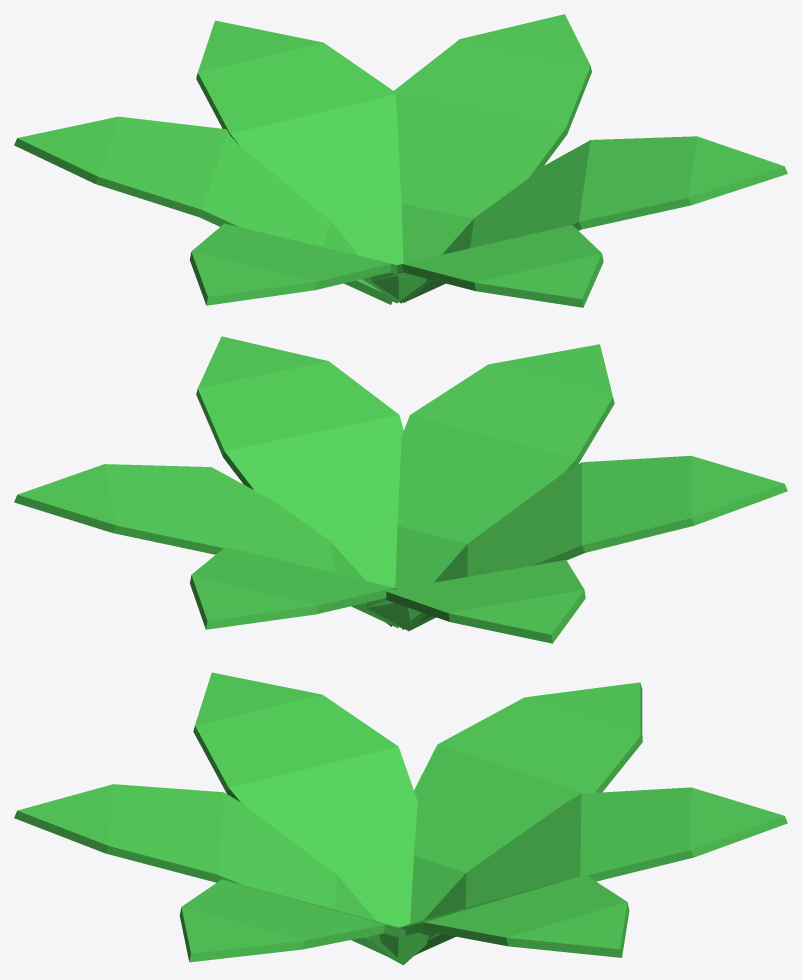
Rendered from plant_1.fbx.
The picture shows the model from 3 angles, top to bottom: view 1: azimuth 30°, elevation 25°; view 2: azimuth 150°, elevation 25°; view 3: azimuth 270°, elevation 25°; orthographic projection.
Parts seen in each view (by area): view 1: Plant_1; view 2: Plant_1; view 3: Plant_1.
Part boxes in pixels (x1=…): Plant_1: x1=14, y1=14, x2=787, y2=307; Plant_1: x1=14, y1=336, x2=787, y2=643; Plant_1: x1=14, y1=672, x2=787, y2=965.
Size of the model in its own units: 196 by 47.4 by 226.
